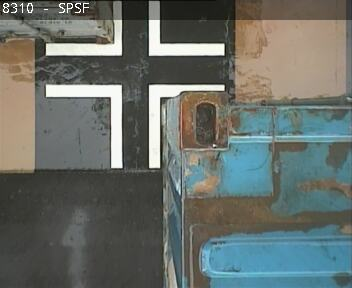groundmarker_1: (44, 83, 222, 168), (45, 1, 223, 58)
